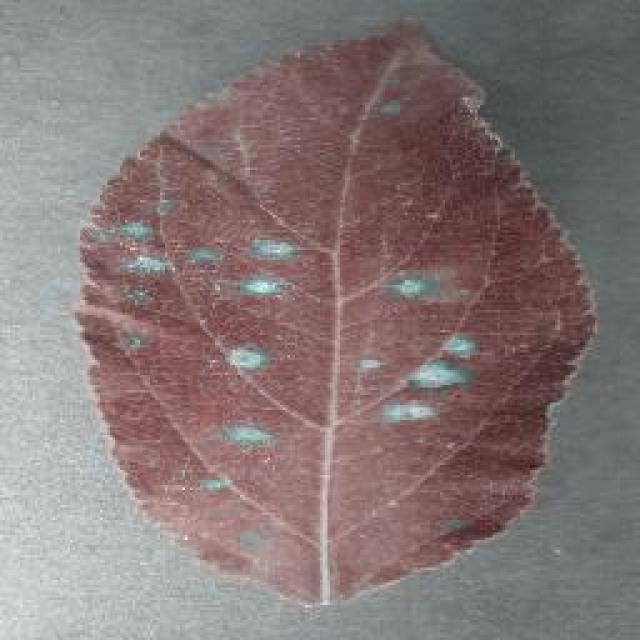apple cedar apple rust: (72, 15, 598, 607)
